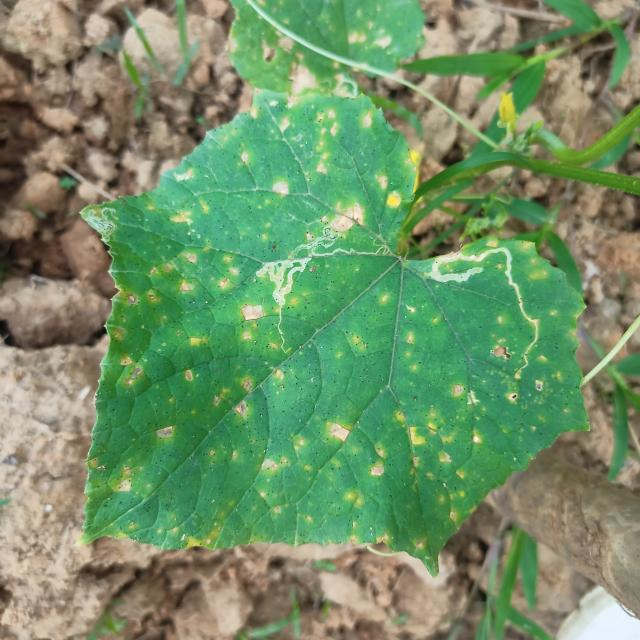disease_cucumber: (105, 108, 550, 562)
